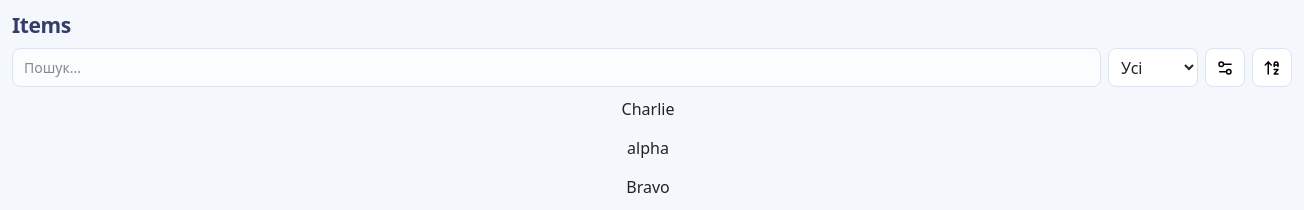
Test case: PaginatedSearchableList › does not match object fields
Type "nested" into the field named "Пошук у списку «Items»" at (556, 68), box [12,48,1101,87]
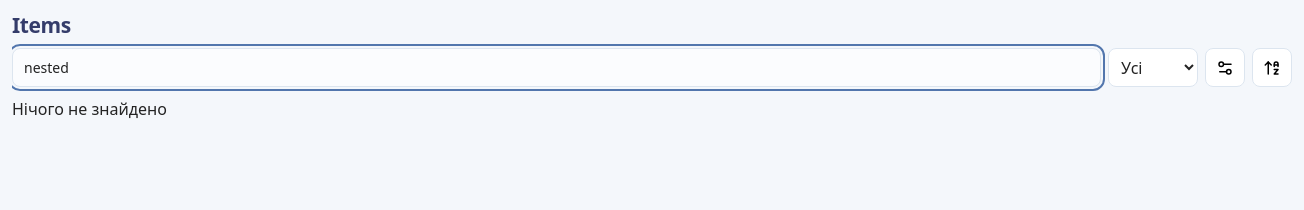
Expected: the text "Нічого не знайдено" is shown, [12,98,167,120]
